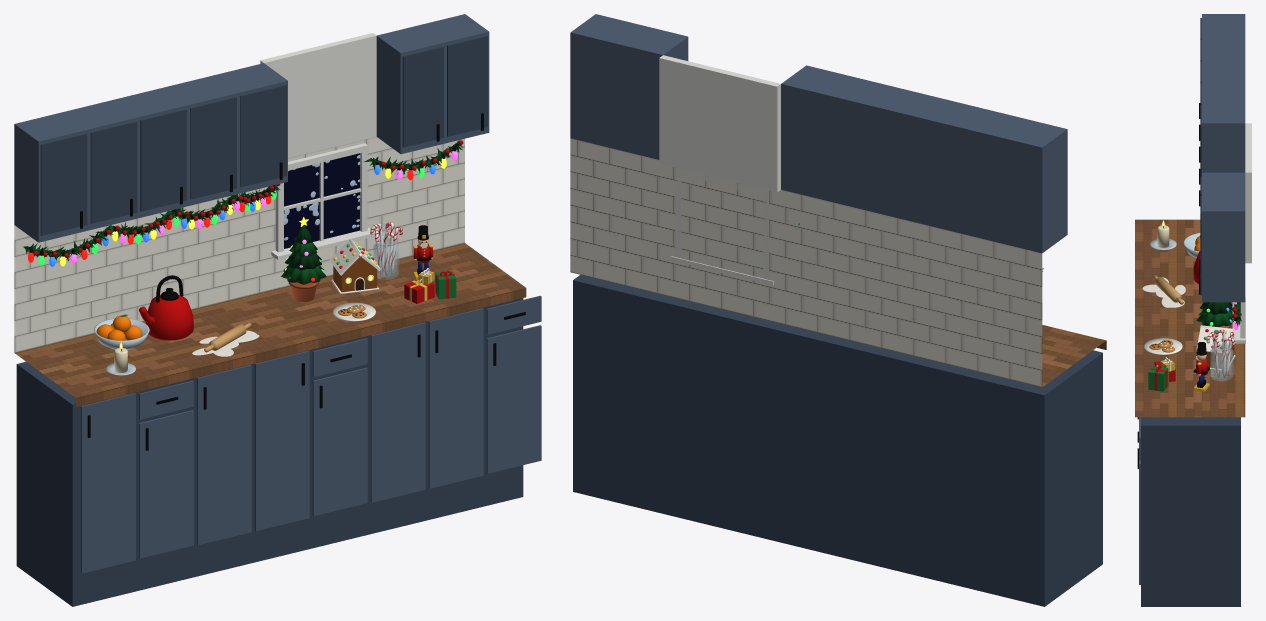
Rendered from kitchen.glb.
3 renders of one model, left to right at view 1: azimuth 30°, elevation 25°; view 2: azimuth 150°, elevation 25°; view 3: azimuth 270°, elevation 25°, orthographic. The views are drawn at different scales.
Visible parts, largest first — view 1: LowerCabinets, Wall, CounterTop, UpperLeft, WallAboveWindow, Door5, Door6, Door3, Door2, Door0, Door7, Door4 (+19 smaller); view 2: LowerCabinets, Wall, UpperLeft, WallAboveWindow, UpperRight, CounterTop; view 3: LowerCabinets, CounterTop, UpperLeft, UpperRight, WallAboveWindow, JarGlass, GingerRoof1, TreeTier0, Present1, Plate, TreeTier1, RollingPin (+7 smaller).
Part boxes in pixels (x1,y1,x2,y2): LowerCabinets: (16,298,523,606); Wall: (14,136,464,352); CounterTop: (15,243,525,397); UpperLeft: (14,63,287,242); WallAboveWindow: (260,33,376,158); Door5: (370,322,425,502); Door6: (428,308,483,488); Door3: (254,350,309,530); Door2: (197,364,251,545); Door0: (81,393,135,573); Door7: (486,325,541,473); Door4: (312,367,367,515); LowerCabinets: (573,275,1102,606); Wall: (570,138,1042,387); UpperLeft: (781,65,1067,253); WallAboveWindow: (659,55,780,192); UpperRight: (570,14,688,159); CounterTop: (1042,325,1105,386); LowerCabinets: (1141,417,1240,606); CounterTop: (1135,219,1245,417); UpperLeft: (1202,14,1245,172); UpperRight: (1202,172,1245,302); WallAboveWindow: (1245,123,1251,263); JarGlass: (1210,341,1233,380); GingerRoof1: (1196,325,1232,353); TreeTier0: (1196,310,1232,326); Present1: (1148,366,1168,391); Plate: (1144,338,1182,354); TreeTier1: (1199,302,1232,314); RollingPin: (1155,277,1181,302).
Bounding box in the file's own units: 29.07 × 26.15 × 7.
52 materials, 2 textured.
